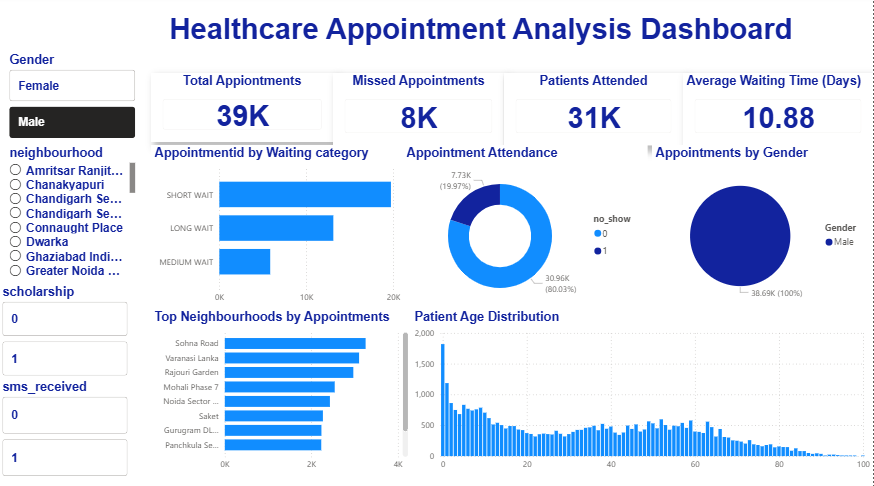

The page's visual inventory and layout, read from the dashboard file:
{"tool":"powerbi","page":{"name":"Page 1","canvas":[1280,720],"ordinal":0},"visuals":[{"type":"cardVisual","title":"Total Appiontments","fields":{"Data":["KaggleV2 234.Total Appointment"]},"box":[221.7,112.5,267.1,100.8],"z":0},{"type":"cardVisual","title":"Missed Appointments","fields":{"Data":["KaggleV2 234.Total NoShow"]},"box":[488.8,112.5,250.3,105.8],"z":1000},{"type":"cardVisual","title":"Patients Attended","fields":{"Data":["KaggleV2 234.Total Attended"]},"box":[739.1,112.5,262,105.8],"z":2000},{"type":"cardVisual","title":"Average Waiting Time (Days)","fields":{"Data":["KaggleV2 234.Avg Waiting Days"]},"box":[1001.2,112.5,278.8,105.8],"z":3000},{"type":"donutChart","title":"Appointment Attendance","fields":{"Y":["CountNonNull(KaggleV2 234.appointmentid)"],"Category":["KaggleV2 234.no_show"]},"box":[591.3,218.4,357.8,245.2],"z":4000},{"type":"pieChart","title":"Appointments by Gender","fields":{"Category":["KaggleV2 234.Gender"],"Y":["CountNonNull(KaggleV2 234.appointmentid)"]},"box":[955.8,218.4,324.2,245.2],"z":5000},{"type":"barChart","title":"Appointmentid by Waiting category","fields":{"Category":["KaggleV2 234.Waiting category"],"Y":["CountNonNull(KaggleV2 234.appointmentid)"]},"box":[221.7,218.4,369.6,240.2],"z":6000},{"type":"barChart","title":"Top Neighbourhoods by Appointments","fields":{"Category":["KaggleV2 234.neighbourhood"],"Y":["CountNonNull(KaggleV2 234.appointmentid)"]},"box":[221.7,458.6,381.3,245.2],"z":7000},{"type":"clusteredColumnChart","title":"Patient Age Distribution","fields":{"Y":["CountNonNull(KaggleV2 234.appointmentid)"],"Category":["KaggleV2 234.age"]},"box":[603,458.6,677,245.2],"z":8000},{"type":"advancedSlicerVisual","fields":{"Values":["KaggleV2 234.Gender"]},"box":[10.1,82.3,194.9,131],"z":9000},{"type":"listSlicer","fields":{"Values":["KaggleV2 234.neighbourhood"]},"box":[10.1,218.4,194.9,203.3],"z":9001},{"type":"advancedSlicerVisual","fields":{"Values":["KaggleV2 234.scholarship"]},"box":[0,421.6,193.2,139.4],"z":9002},{"type":"advancedSlicerVisual","fields":{"Values":["KaggleV2 234.sms_received"]},"box":[0,561,193.2,147.8],"z":9003},{"type":"textbox","box":[193.2,18.5,1024.7,63.8],"z":9004}]}

Visuals, with their boxes in screenshot pixels (x1, y1, x2, y2), scaled from the page's 1280x720 canvas onto the 874x486 screenshot:
"Total Appiontments" cardVisual: 151:76:334:144
"Missed Appointments" cardVisual: 334:76:505:147
"Patients Attended" cardVisual: 505:76:684:147
"Average Waiting Time (Days)" cardVisual: 684:76:873:147
"Appointment Attendance" donutChart: 404:147:648:313
"Appointments by Gender" pieChart: 653:147:873:313
"Appointmentid by Waiting category" barChart: 151:147:404:310
"Top Neighbourhoods by Appointments" barChart: 151:310:412:475
"Patient Age Distribution" clusteredColumnChart: 412:310:873:475
advancedSlicerVisual - KaggleV2 234.Gender: 7:56:140:144
listSlicer - KaggleV2 234.neighbourhood: 7:147:140:285
advancedSlicerVisual - KaggleV2 234.scholarship: 0:285:132:379
advancedSlicerVisual - KaggleV2 234.sms_received: 0:379:132:478
textbox: 132:12:832:56
